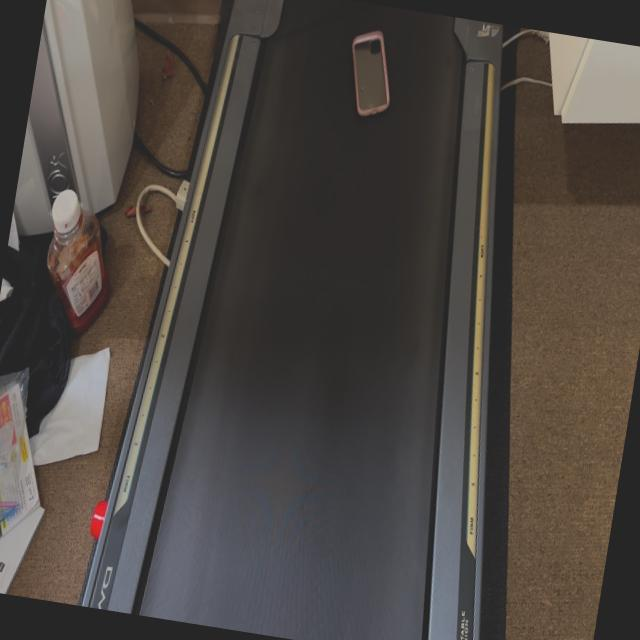Trash: (342, 26, 402, 120)
